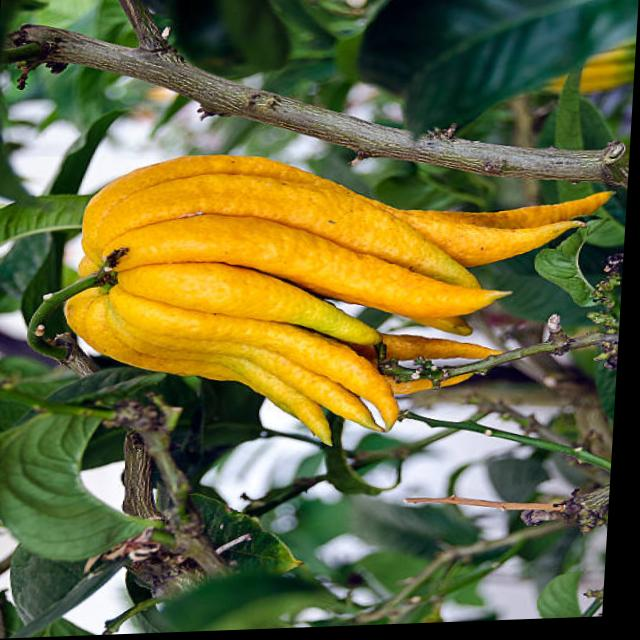PhatThu: (33, 158, 620, 452)
